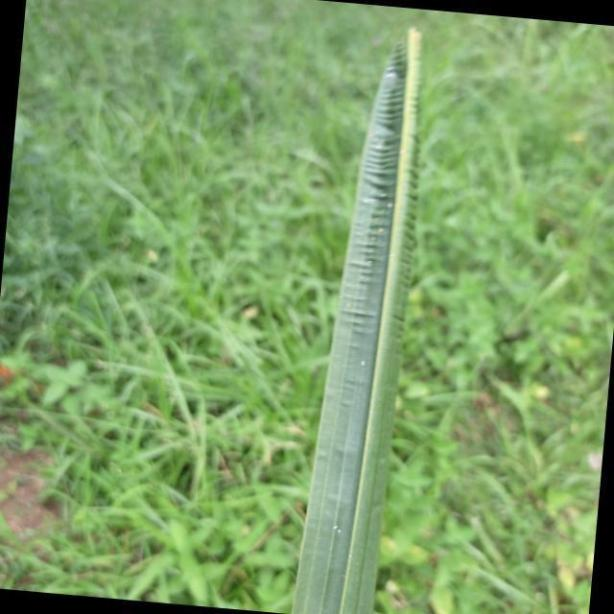Boron: (288, 27, 430, 614)
